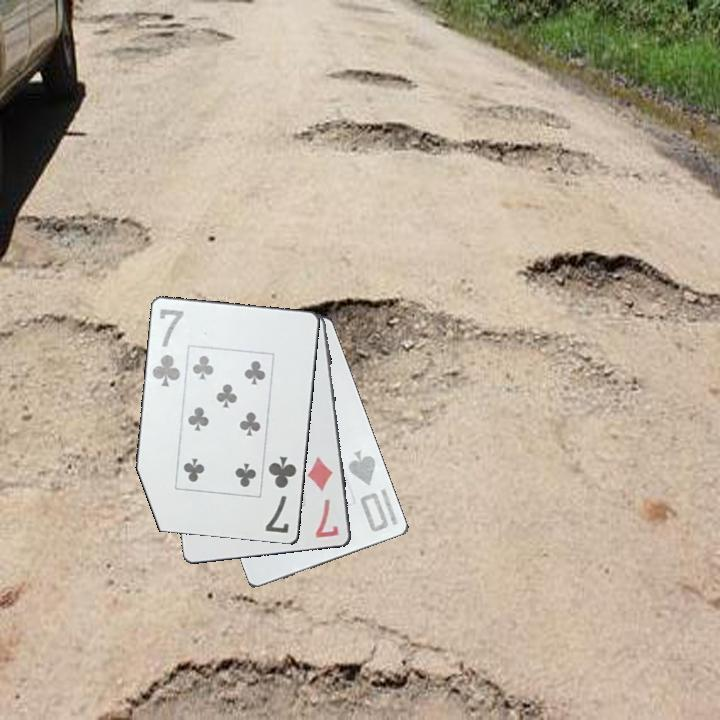7c: (149, 305, 187, 390), (262, 453, 300, 537)
7d: (304, 453, 342, 541)
Ts: (345, 446, 392, 535)
